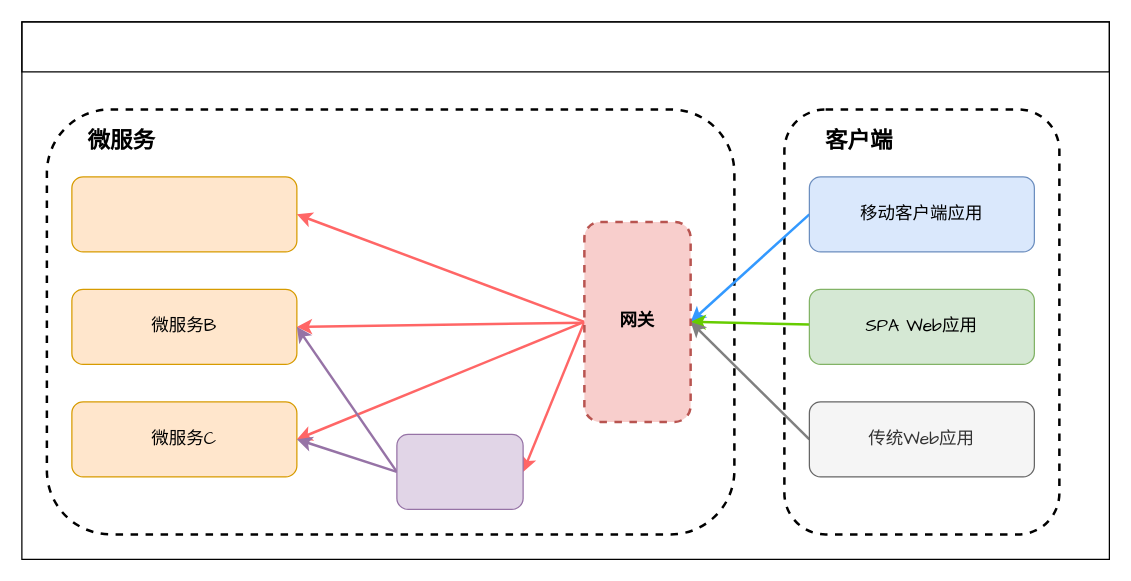
Some shapes in this 1131 by 581 pixel diagram are drawn without their labels. Here are the shapes that lost their labels. From the top down, the centre of each, then its label:
At (x=565, y=46): "共享网关+聚合服务模式".
At (x=184, y=214): "微服务A".
At (x=459, y=471): "聚合服务D".
